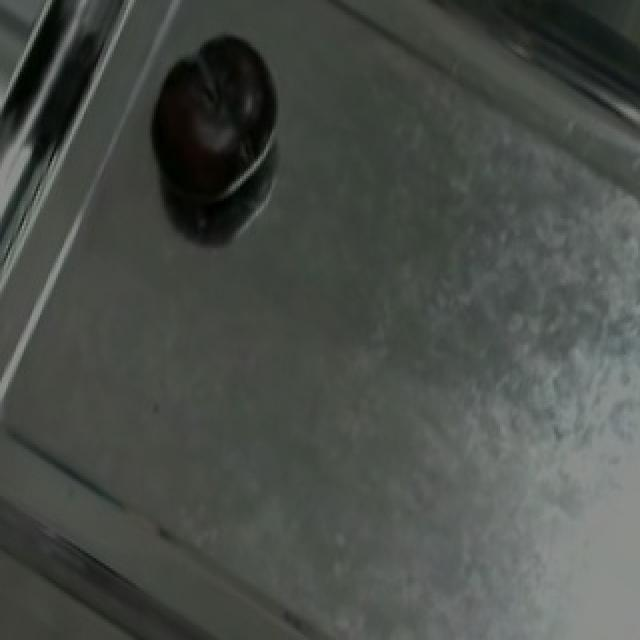Fruit: (128, 15, 306, 233)
